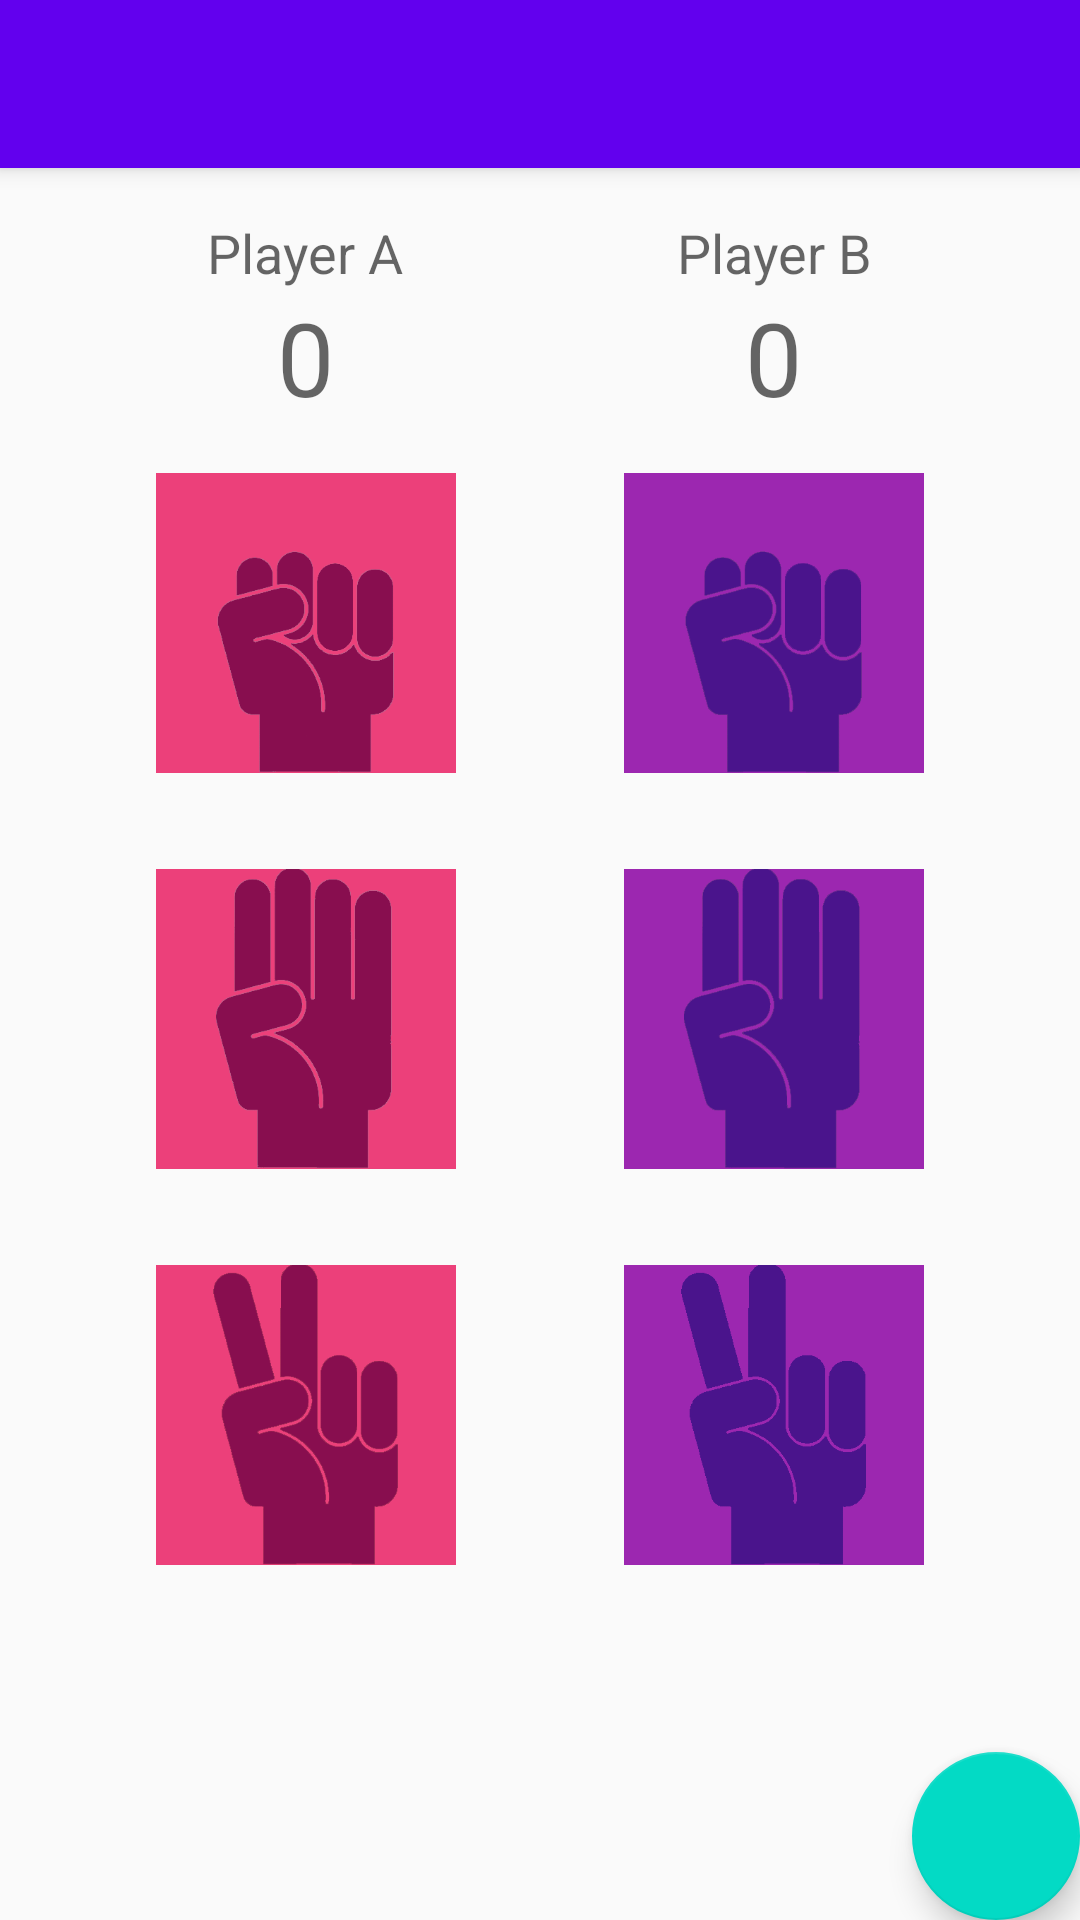

Icons on this 1080px×1920px Android screen, each with the point to tap as (x,y):
paper: (306,1019), (774,1019)
rock: (306,623), (774,623)
scissor: (306,1415), (774,1415)
